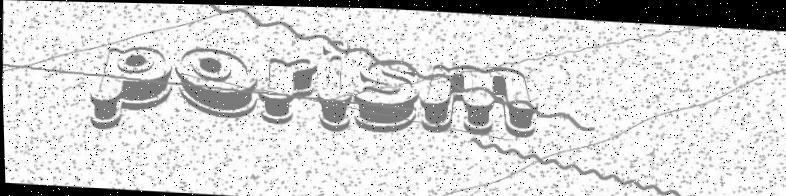i: (314, 37, 355, 132)
m: (417, 59, 538, 136)
o: (171, 44, 259, 118)
p: (87, 41, 175, 134)
r: (257, 53, 318, 124)
s: (351, 56, 420, 133)
